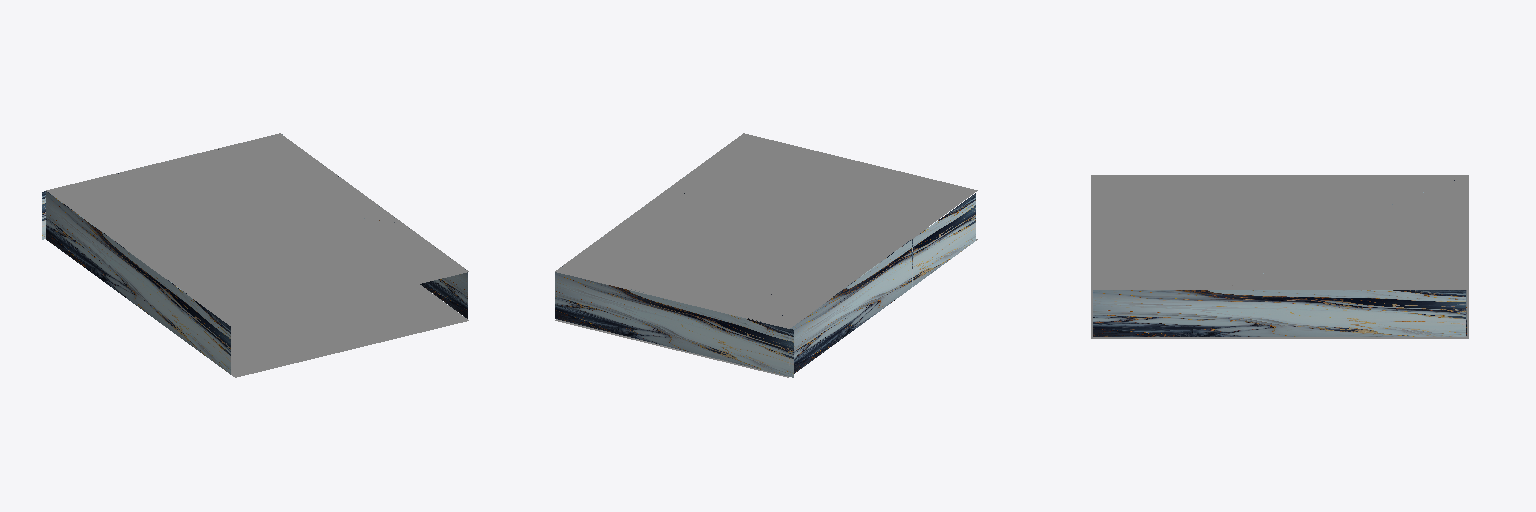
The picture shows the model from 3 angles: view 1: azimuth 30°, elevation 25°; view 2: azimuth 150°, elevation 25°; view 3: azimuth 270°, elevation 25°; orthographic projection.
Visible parts, largest first — view 1: Plane017, Plane001, Plane014, Plane015; view 2: Plane017, Plane016, Plane014; view 3: Plane017, Plane015, Plane001.
Boxes of the visible parts, x1,y1,x2,y2 form: Plane017: [46, 133, 468, 328]; Plane001: [51, 243, 468, 377]; Plane014: [46, 192, 230, 374]; Plane015: [323, 165, 467, 318]; Plane017: [555, 133, 977, 328]; Plane016: [555, 272, 793, 377]; Plane014: [790, 193, 975, 373]; Plane017: [1091, 175, 1468, 289]; Plane015: [1093, 290, 1465, 336]; Plane001: [1091, 290, 1468, 338].
Bounding box in the file's own units: 716 × 140 × 979.
2 materials, 1 textured.